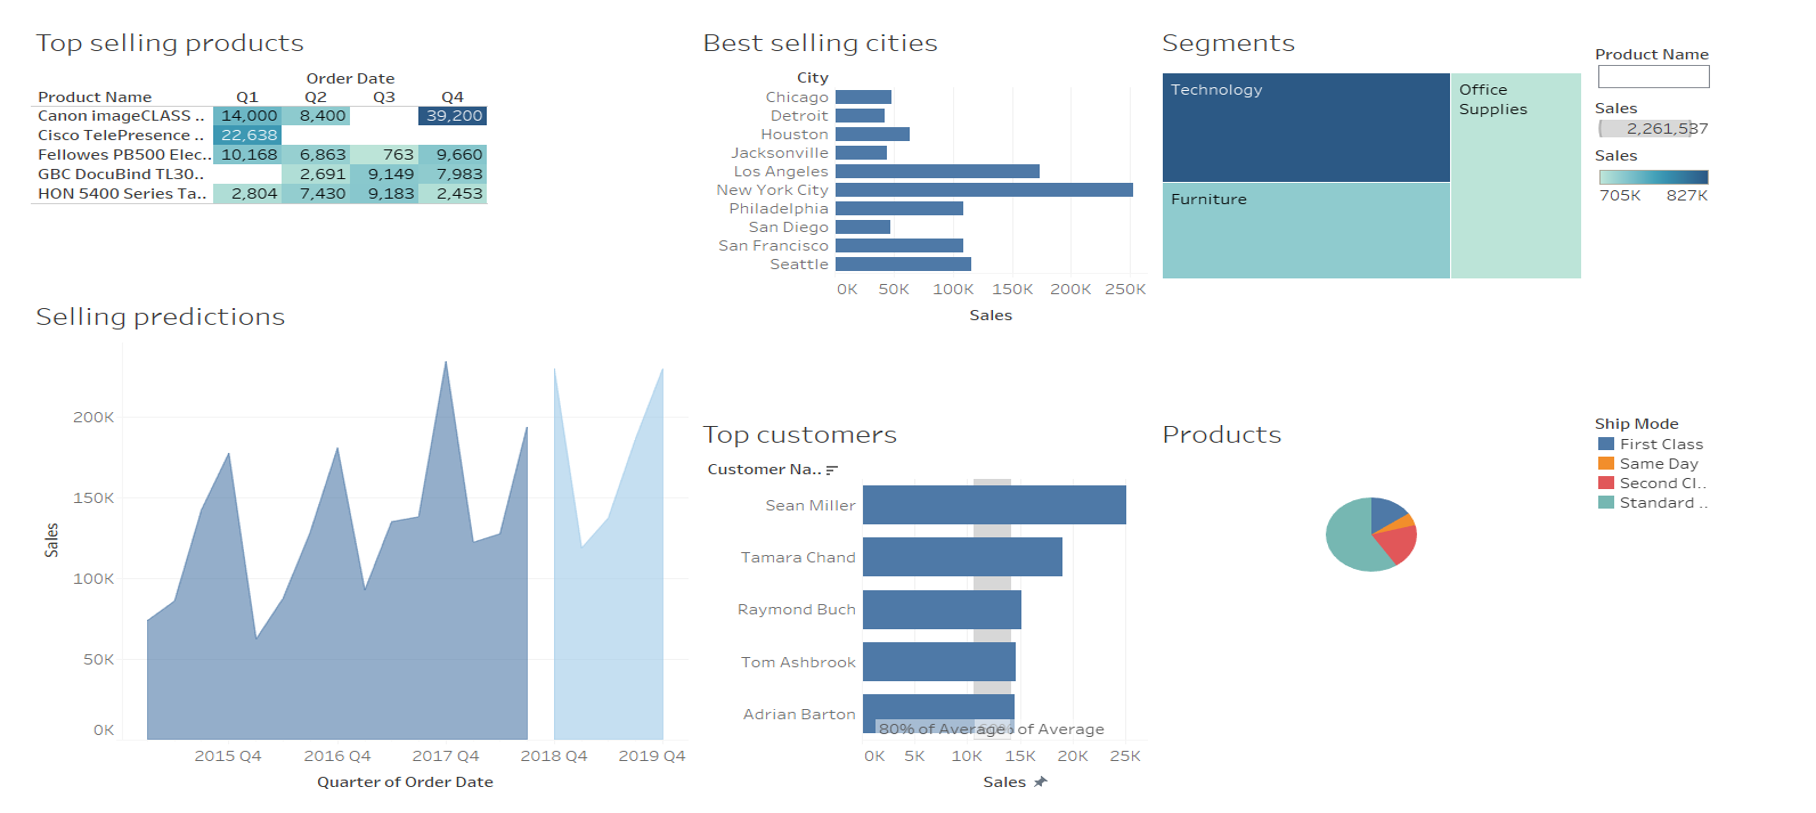

What the dashboard file says about the page in this screenshot:
{"tool":"tableau","page":{"name":"Dashboard","canvas":[1500,860],"ordinal":0},"visuals":[{"type":"worksheet","title":"Top selling products","mark":"Square","rows":["Product Name"],"cols":["Order Date"],"box":[8,8,585,295]},{"type":"worksheet","title":"Best selling cities","mark":"Automatic","rows":["City"],"cols":["Sales"],"box":[592.9,8,403,422]},{"type":"worksheet","title":"Segments","mark":"Automatic","box":[996,8,384,422]},{"type":"legend","title":"Selling predictions","param":"[federated.0wc64yx1ppiwgd176dptz1mqs2eu].[none:State:nk]","box":[1380,8,112,24]},{"type":"filter","title":"Products","param":"[federated.0wc64yx1ppiwgd176dptz1mqs2eu].[none:Product Name:nk]","box":[1380,32,112,58]},{"type":"legend","title":"Products","param":"[federated.0wc64yx1ppiwgd176dptz1mqs2eu].[sum:Sales:qk]","box":[1380,90,112,51]},{"type":"legend","title":"Segments","param":"[federated.0wc64yx1ppiwgd176dptz1mqs2eu].[sum:Sales:qk]","box":[1380,141,112,219]},{"type":"worksheet","title":"Selling predictions","mark":"Area","rows":["Sales"],"cols":["Order Date"],"box":[8,303,585,549]},{"type":"worksheet","title":"Top customers","mark":"Automatic","rows":["Customer Name"],"cols":["Sales"],"box":[592.9,430,403,422]},{"type":"worksheet","title":"Products","mark":"Pie","box":[996,430,384,422]},{"type":"legend","title":"Products","param":"[federated.0wc64yx1ppiwgd176dptz1mqs2eu].[none:Ship Mode:nk]","box":[1380,430,112,162]}]}

Visuals, with their boxes on the page's 1500x860 design canvas (x1, y1, x2, y2). These are canvas units, not pixel positions in the 1816x813 screenshot, which may show the page scaled, cropped or inside an application window:
"Top selling products" worksheet (Square marks): detection(8, 8, 593, 303)
"Best selling cities" worksheet: detection(593, 8, 996, 430)
"Segments" worksheet: detection(996, 8, 1380, 430)
"Selling predictions" legend: detection(1380, 8, 1492, 32)
"Products" filter: detection(1380, 32, 1492, 90)
"Products" legend: detection(1380, 90, 1492, 141)
"Segments" legend: detection(1380, 141, 1492, 360)
"Selling predictions" worksheet (Area marks): detection(8, 303, 593, 852)
"Top customers" worksheet: detection(593, 430, 996, 852)
"Products" worksheet (Pie marks): detection(996, 430, 1380, 852)
"Products" legend: detection(1380, 430, 1492, 592)
